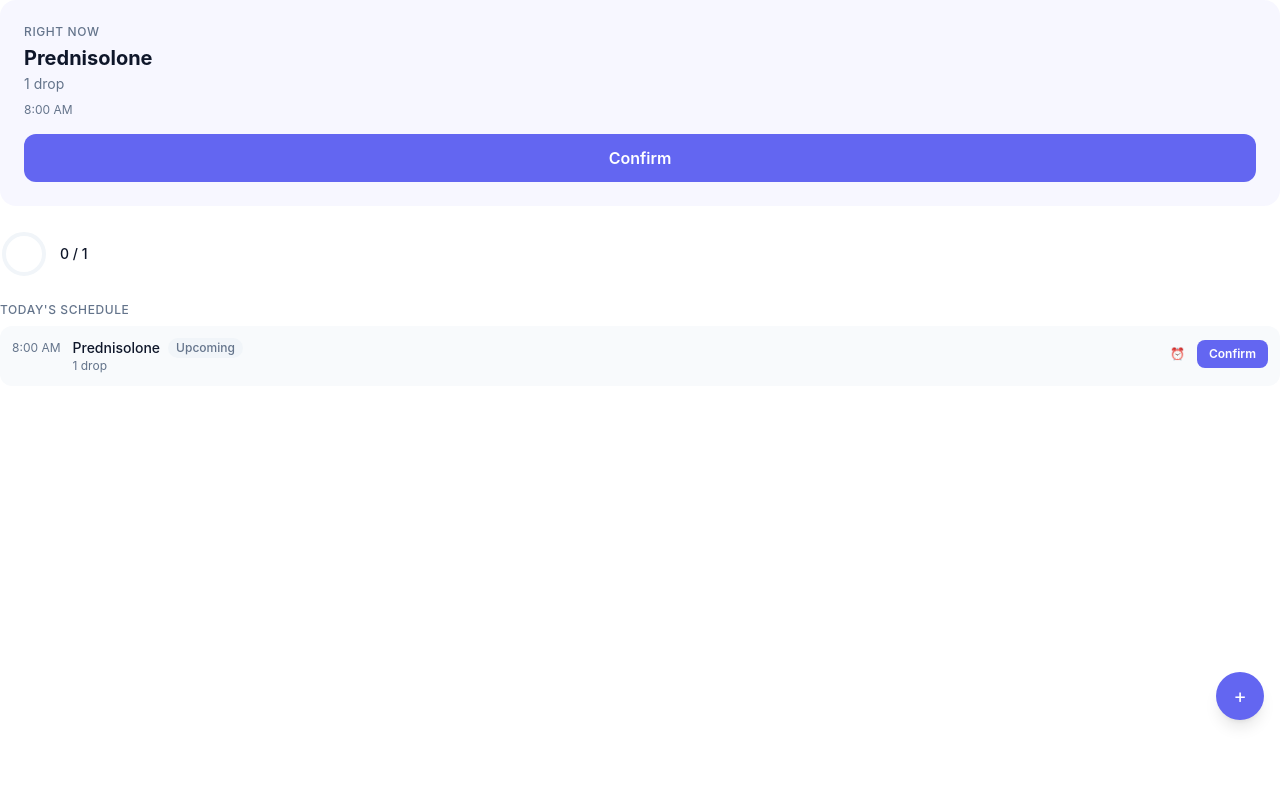
Test: DashboardPage › opens observation sheet when FAB is clicked
Click the button named "Add observation" at (1240, 696), box x1=1216 y1=672 x2=1264 y2=720
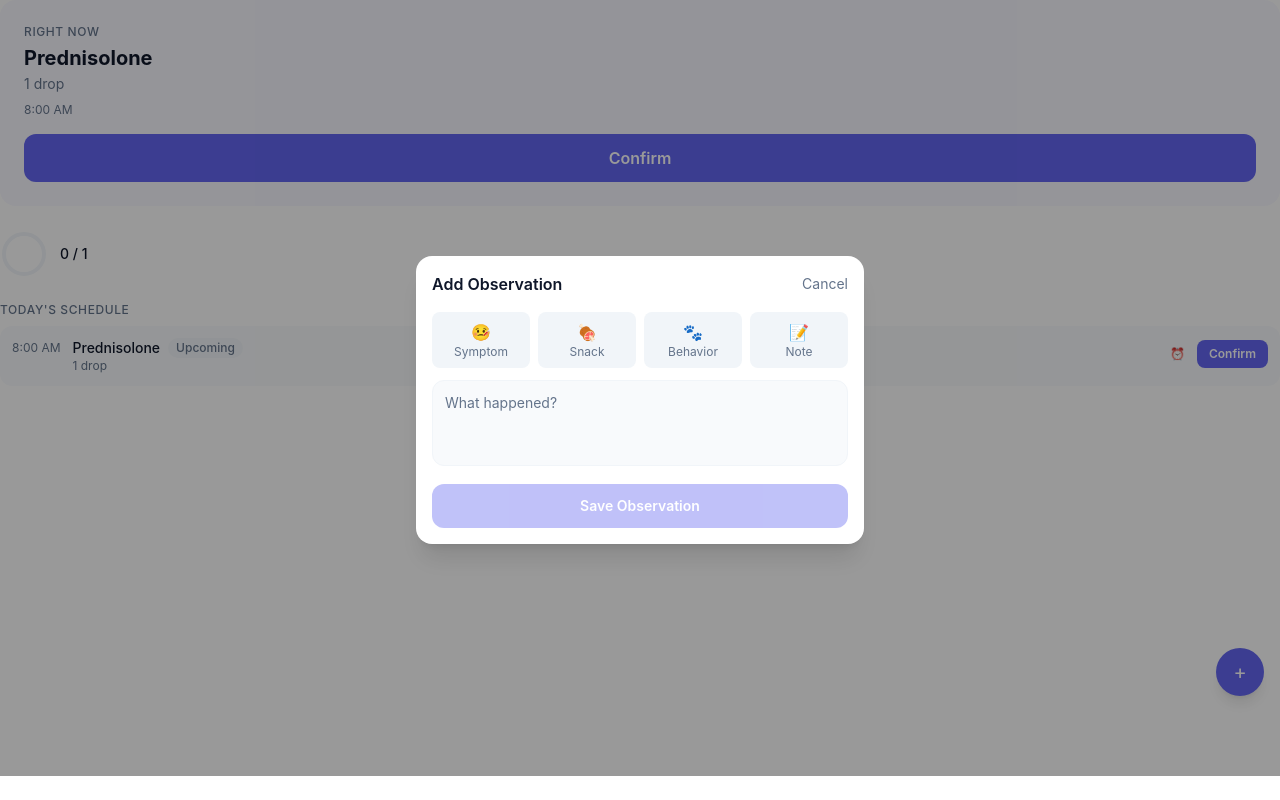
Check: the heading "Add Observation" is shown, box x1=432 y1=272 x2=562 y2=296
